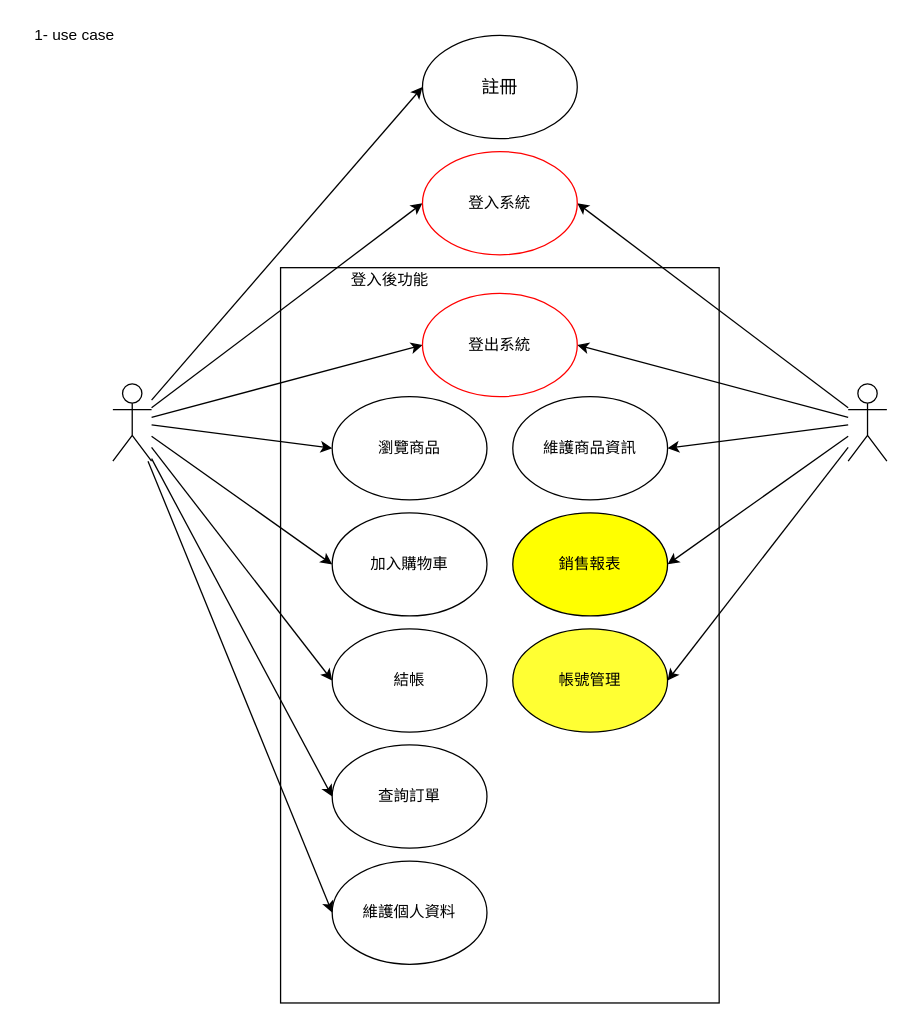
Some shapes in this 912 by 1026 pixel diagram are drawn without their labels. The centre of each missing label's shape, as x and y in pixels:
"消費者" belongs at [132,421].
"管理者" belongs at [867,421].
